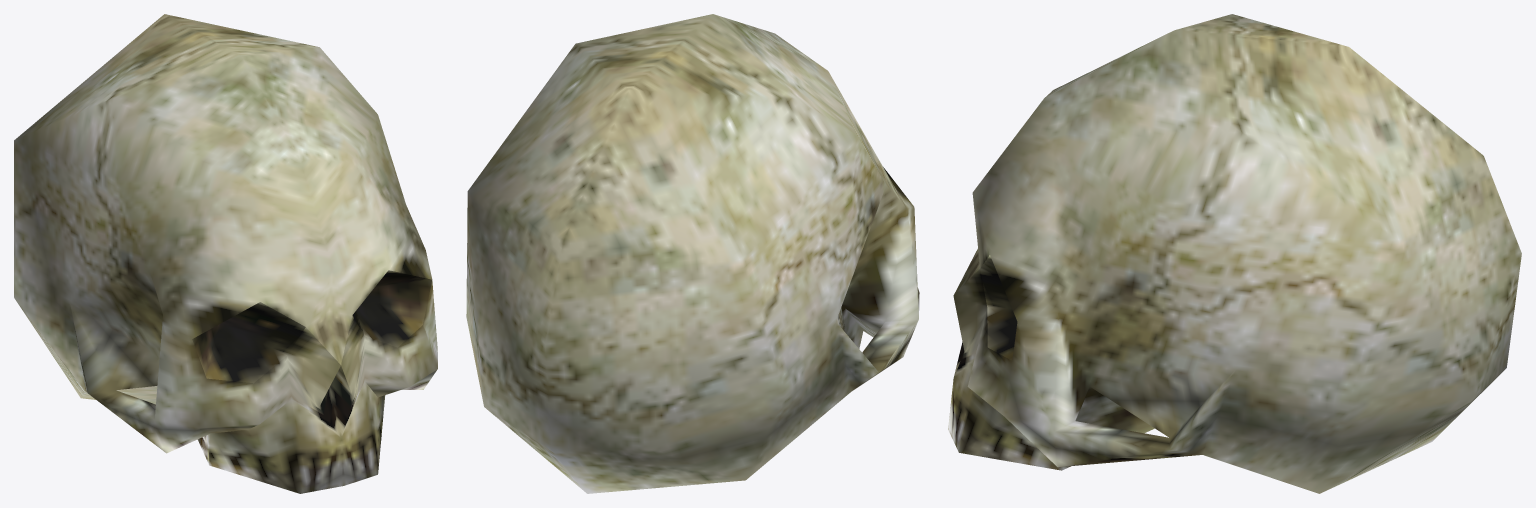
File: poi_all_skeleton_human_head_l0.fbx
3 views of the same model, side by side, from view 1: azimuth 30°, elevation 25°; view 2: azimuth 150°, elevation 25°; view 3: azimuth 270°, elevation 25° (orthographic). The views are drawn at different scales.
Parts seen in each view (by area): view 1: mesh_node; view 2: mesh_node; view 3: mesh_node.
Boxes of the visible parts, x1=… form: mesh_node: x1=14, y1=14, x2=437, y2=493; mesh_node: x1=466, y1=14, x2=919, y2=493; mesh_node: x1=948, y1=14, x2=1521, y2=493.
Bounding box in the file's own units: 0.1755 × 0.1997 × 0.2499.
